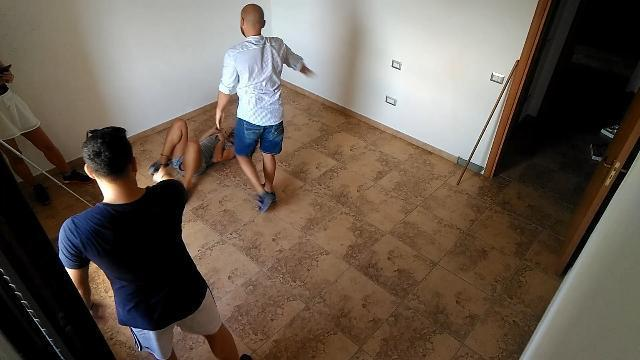non-violence: (67, 118, 239, 360), (1, 64, 94, 205)
violence: (150, 1, 310, 210)
